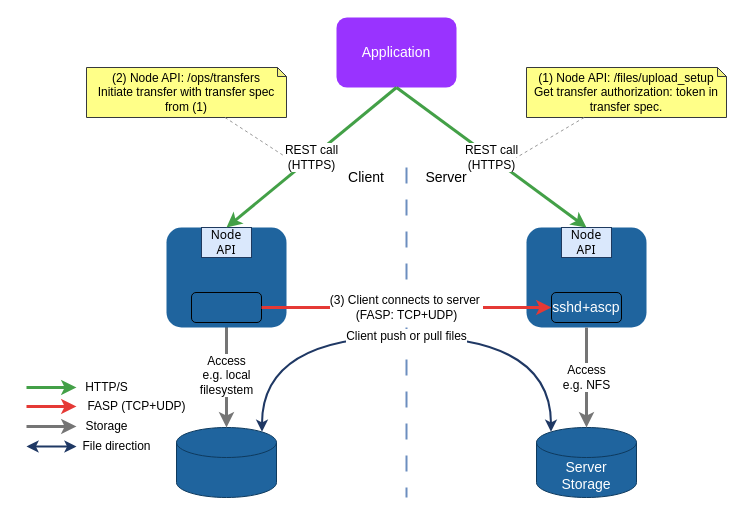
This 744x516 diagram has some shape labels left out. The shapes that lost their labels are listed below. From the top down, each one's box as (x1, y1, x2, y2) in pixels, then its label:
(166, 227, 286, 327): Transfer Server (as client)
(526, 227, 646, 327): Transfer Server
(190, 292, 262, 322): ascp
(176, 426, 276, 498): Client Storage
